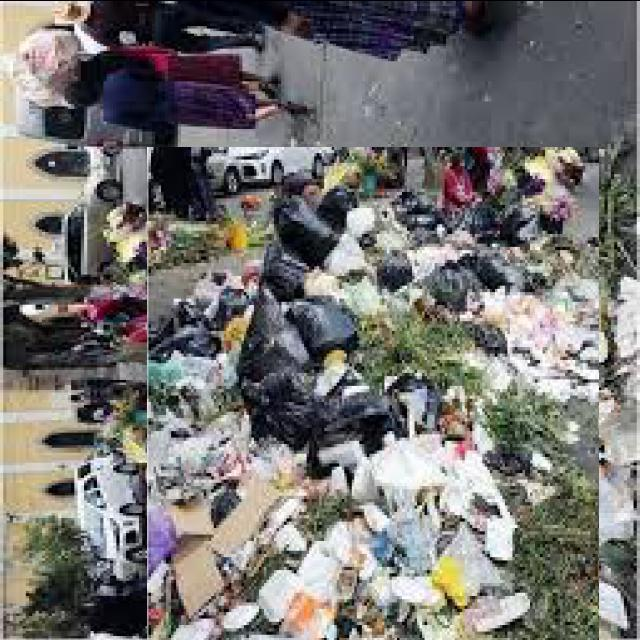Trashbag: (301, 396, 388, 472), (237, 306, 302, 377), (249, 366, 306, 444), (297, 297, 364, 355), (282, 206, 337, 276), (423, 268, 482, 320), (462, 249, 527, 296), (251, 255, 312, 301), (374, 253, 420, 297), (326, 186, 353, 222)
